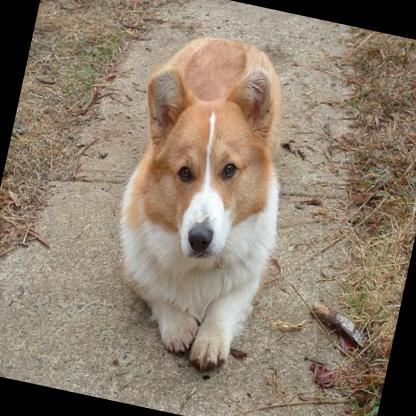Pembroke: (86, 14, 320, 386)
